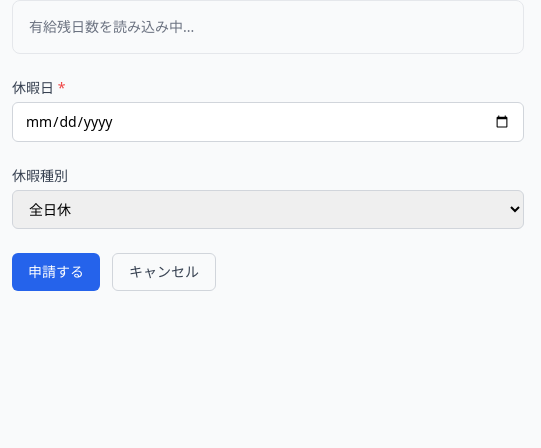
it: LeaveRequestForm › 休暇日が未入力の場合エラーが表示される
Step 1. Click the button "申請する" → (56, 272), box [12,253,100,291]
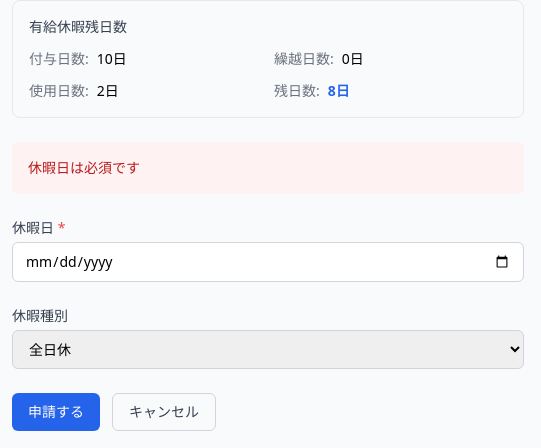
Now the message reads "休暇日は必須です", box [28,158,140,177]
